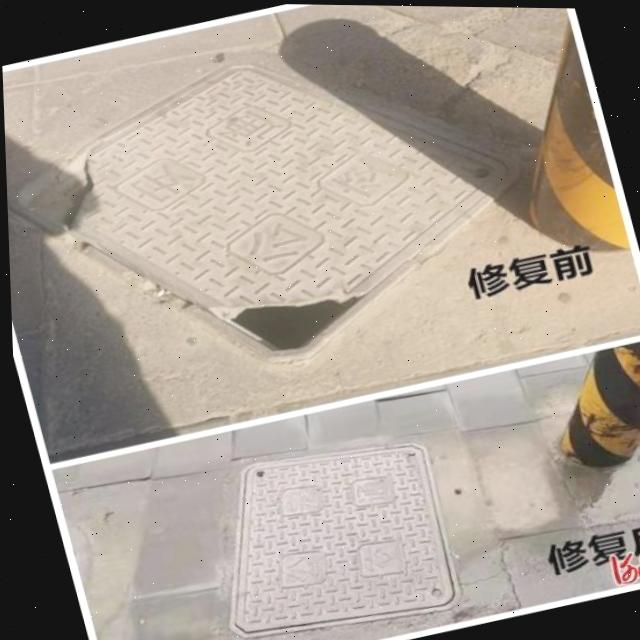manhole: (0, 3, 561, 418)
